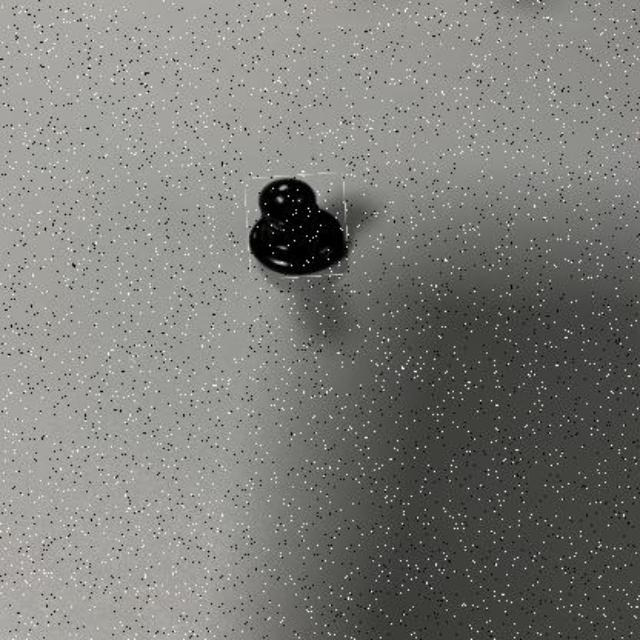black-pawn: (246, 174, 347, 278)
